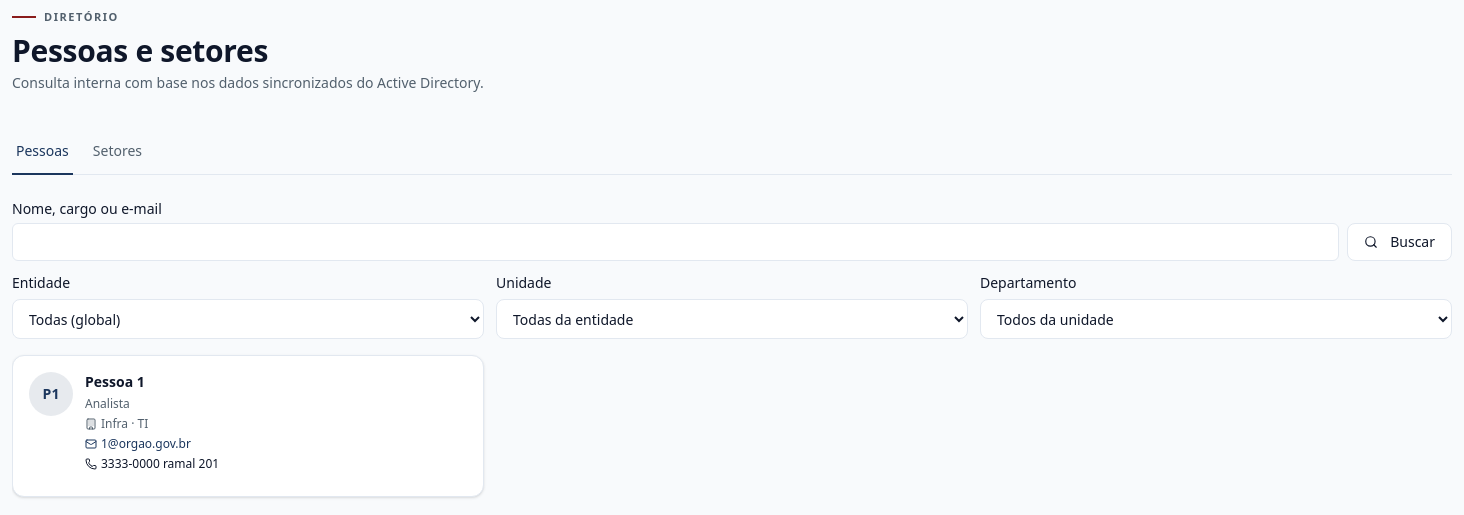
Scenario: Diretório › sem Mercúrio não oferece conversa; aba de setores
The width and height of the screenshot is (1464, 515).
Check: the text "Pessoa 1" is shown, box [85,372,145,391]
Click the tab "Setores" at (117, 158), box [89,141,146,175]
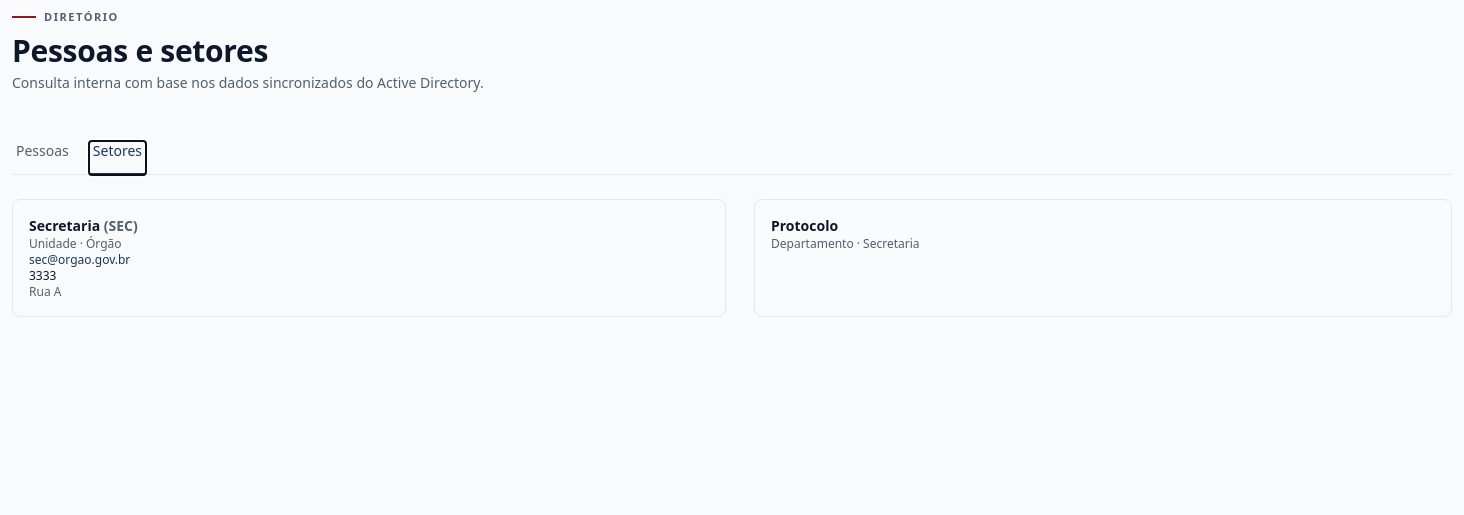
Check: the text "Unidade · Órgão" is shown, box [29,235,122,252]
Check: the text "Departamento · Secretaria" is shown, box [771,235,920,252]
Check: the text "Rua A" is shown, box [29,283,61,300]
